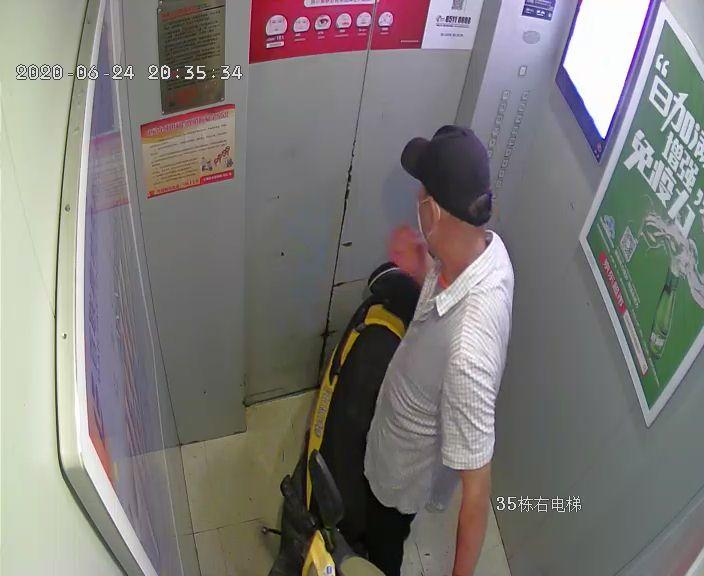Electric-bicycle: (262, 256, 427, 575)
